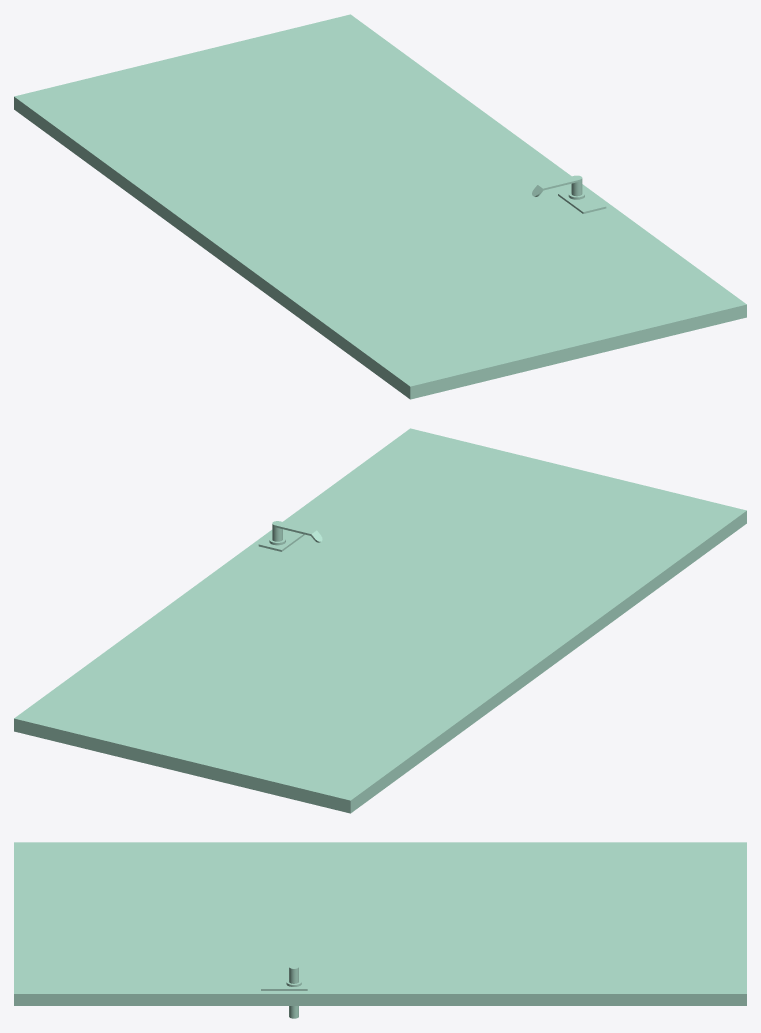
File: metal_door_112_reference.fbx
3 views of the same model, one above another, from view 1: azimuth 30°, elevation 25°; view 2: azimuth 150°, elevation 25°; view 3: azimuth 270°, elevation 25° (orthographic). The views are drawn at different scales.
Visible parts, largest first — view 1: metal_door_112_reference; view 2: metal_door_112_reference; view 3: metal_door_112_reference.
Part boxes in pixels (<box>): metal_door_112_reference: <box>14,14,746,399</box>; metal_door_112_reference: <box>14,428,746,813</box>; metal_door_112_reference: <box>14,842,746,1018</box>.
Bounding box in the file's own units: 5449 × 833 × 11113.
